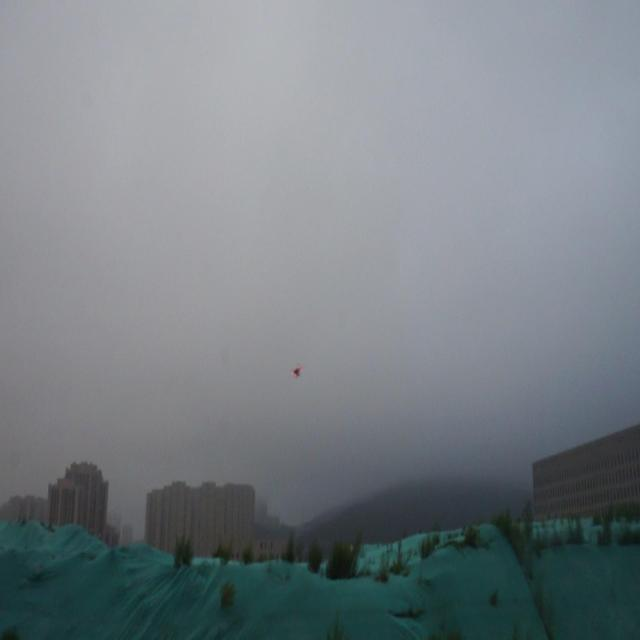drone: (289, 362, 305, 382)
